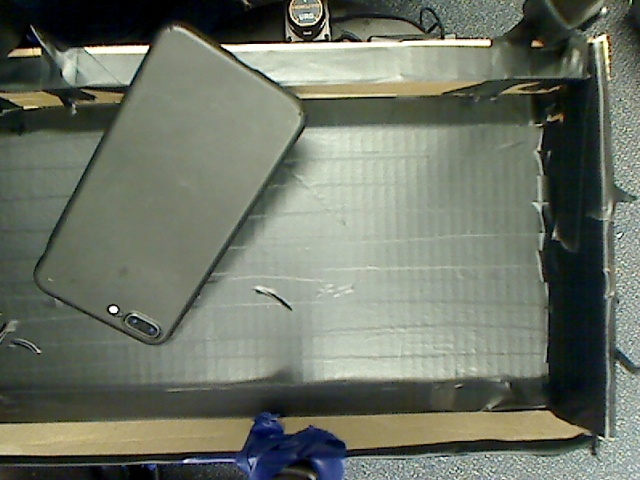phone: (29, 21, 335, 351)
